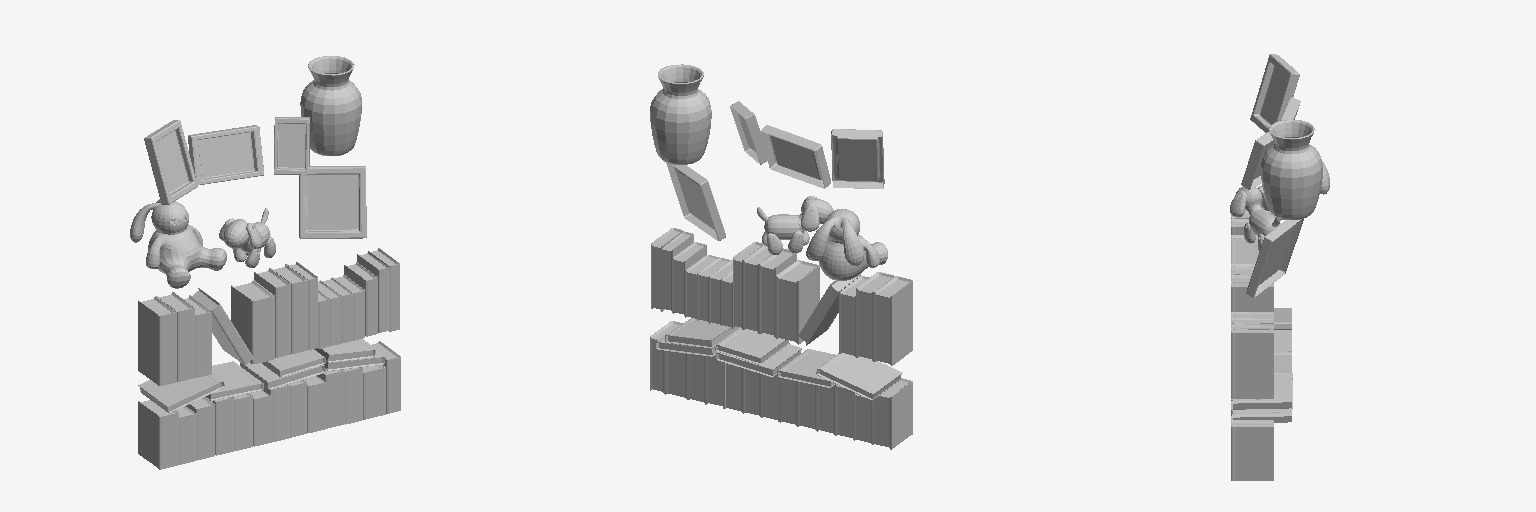
The model's file is ISI LEMARI.obj.
3 views of the same model, side by side, from view 1: azimuth 30°, elevation 25°; view 2: azimuth 150°, elevation 25°; view 3: azimuth 270°, elevation 25° (orthographic).
Parts seen in each view (by area): view 1: group23 laciOla:pCube45, group23 laciOla:pCylinder9, group23 laciOla:polySurface17, group23 laciOla:pCube25, group23 laciOla:pCube58, group23 laciOla:pCube24, group23 laciOla:pCube62, group23 laciOla:pCube31, group23 laciOla:pCube26, laciOla:group25_pCylinder27 group23, group23 laciOla:polySurface7, group23 laciOla:pCube59 (+28 smaller); view 2: group23 laciOla:pCylinder9, group23 laciOla:polySurface17, group23 laciOla:pCube58, group23 laciOla:pCube24, group23 laciOla:pCube62, group23 laciOla:pCube25, group23 laciOla:polySurface7, group23 laciOla:pCube45, laciOla:group25_pCylinder27 group23, group23 laciOla:pCube31, group23 laciOla:pCube57, group23 laciOla:polySurface5 (+28 smaller); view 3: group23 laciOla:pCylinder9, group23 laciOla:pCube48, group23 laciOla:pCube43, group23 laciOla:pCube24, group23 laciOla:pCube45, laciOla:group25_pCylinder27 group23, group23 laciOla:polySurface9, group23 laciOla:pCube55, group23 laciOla:pCube26, group23 laciOla:polySurface8, group23 laciOla:pCube63.
Boxes of the visible parts, x1,y1,x2,y2 form: group23 laciOla:pCube45: [299, 166, 366, 238]; group23 laciOla:pCylinder9: [300, 56, 361, 155]; group23 laciOla:polySurface17: [130, 199, 226, 288]; group23 laciOla:pCube25: [188, 125, 263, 184]; group23 laciOla:pCube58: [138, 296, 176, 385]; group23 laciOla:pCube24: [144, 120, 197, 204]; group23 laciOla:pCube62: [231, 280, 274, 363]; group23 laciOla:pCube31: [138, 400, 178, 469]; group23 laciOla:pCube26: [274, 117, 309, 175]; laciOla:group25_pCylinder27 group23: [219, 208, 275, 267]; group23 laciOla:polySurface7: [138, 373, 224, 413]; group23 laciOla:pCube59: [156, 292, 194, 381]; group23 laciOla:pCylinder9: [650, 64, 711, 164]; group23 laciOla:polySurface17: [806, 209, 887, 280]; group23 laciOla:pCube58: [874, 276, 912, 365]; group23 laciOla:pCube24: [831, 129, 884, 188]; group23 laciOla:pCube62: [776, 260, 819, 344]; group23 laciOla:pCube25: [760, 125, 830, 188]; group23 laciOla:polySurface7: [816, 353, 902, 400]; group23 laciOla:pCube45: [666, 163, 725, 240]; laciOla:group25_pCylinder27 group23: [757, 196, 833, 254]; group23 laciOla:pCube31: [873, 378, 912, 449]; group23 laciOla:pCube57: [759, 248, 796, 337]; group23 laciOla:polySurface5: [715, 327, 789, 364]; group23 laciOla:pCylinder9: [1261, 119, 1322, 219]; group23 laciOla:pCube48: [1231, 328, 1273, 398]; group23 laciOla:pCube43: [1231, 420, 1273, 480]; group23 laciOla:pCube24: [1250, 54, 1299, 132]; group23 laciOla:pCube45: [1246, 219, 1303, 297]; laciOla:group25_pCylinder27 group23: [1230, 186, 1280, 251]; group23 laciOla:polySurface9: [1233, 373, 1292, 409]; group23 laciOla:pCube55: [1231, 282, 1273, 311]; group23 laciOla:pCube26: [1241, 132, 1273, 189]; group23 laciOla:polySurface8: [1232, 398, 1292, 422]; group23 laciOla:pCube63: [1231, 241, 1258, 262].
Bounding box in the file's own units: 5.43 × 7.14 × 1.95.